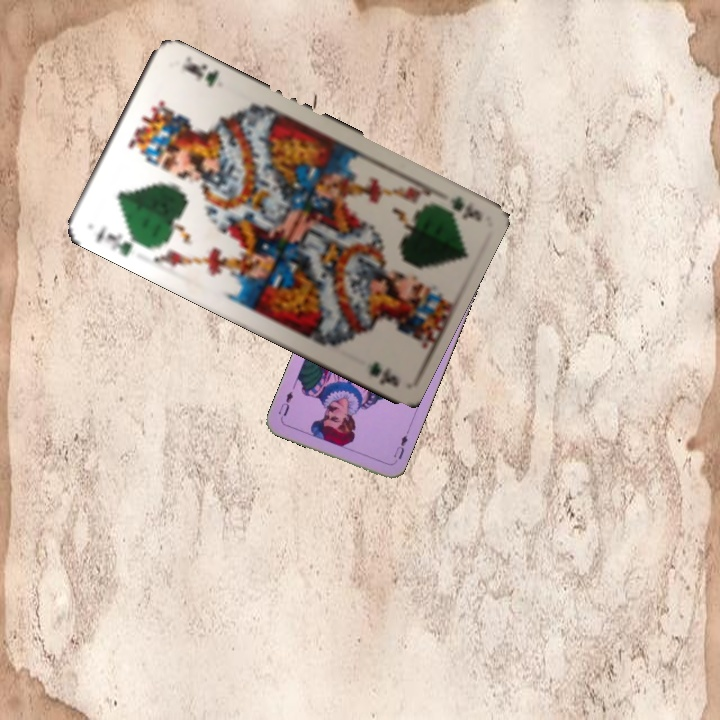EU: (389, 427, 411, 466)
GK: (91, 221, 145, 259), (426, 192, 485, 223)
